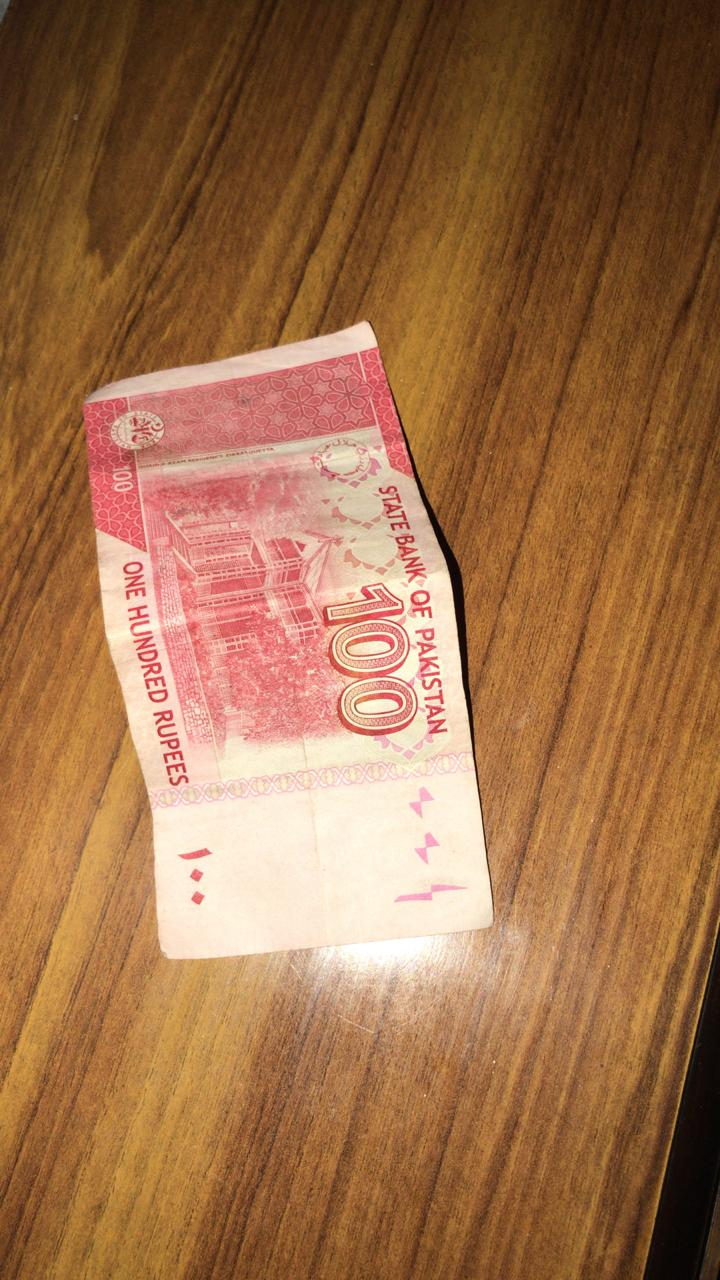100 rupee: (69, 324, 493, 1016)
